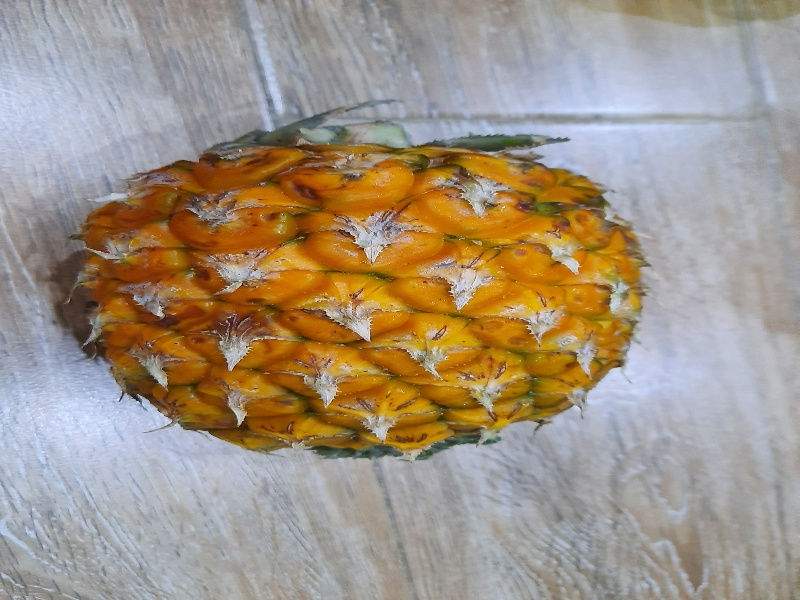fruit: (59, 126, 655, 459)
